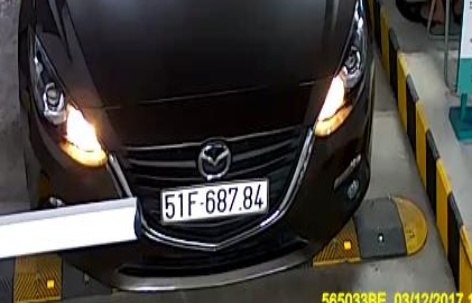plate: (158, 181, 276, 224)
